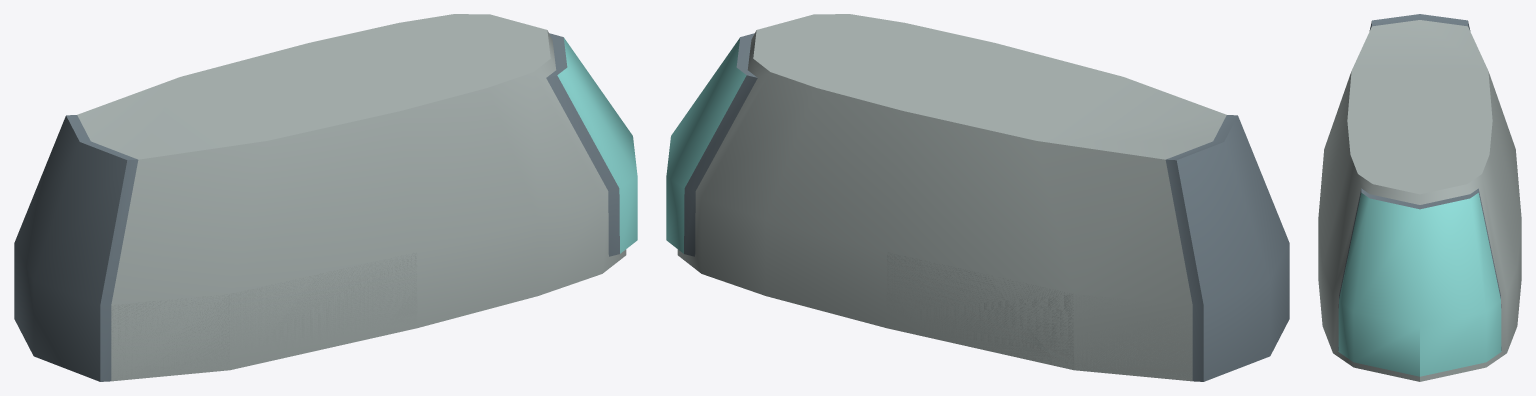
File: Rover_Interior 2.fbx
The picture shows the model from 3 angles, left to right: view 1: azimuth 30°, elevation 25°; view 2: azimuth 150°, elevation 25°; view 3: azimuth 270°, elevation 25°; orthographic projection. The views are drawn at different scales.
Visible parts, largest first — view 1: Rover.002; view 2: Rover.002; view 3: Rover.002.
Part boxes in pixels (box(x1,y1,x2,y2)): Rover.002: box(14, 14, 637, 381); Rover.002: box(666, 14, 1289, 381); Rover.002: box(1318, 14, 1521, 381).
Bounding box in the file's own units: 359 × 118 × 135.
